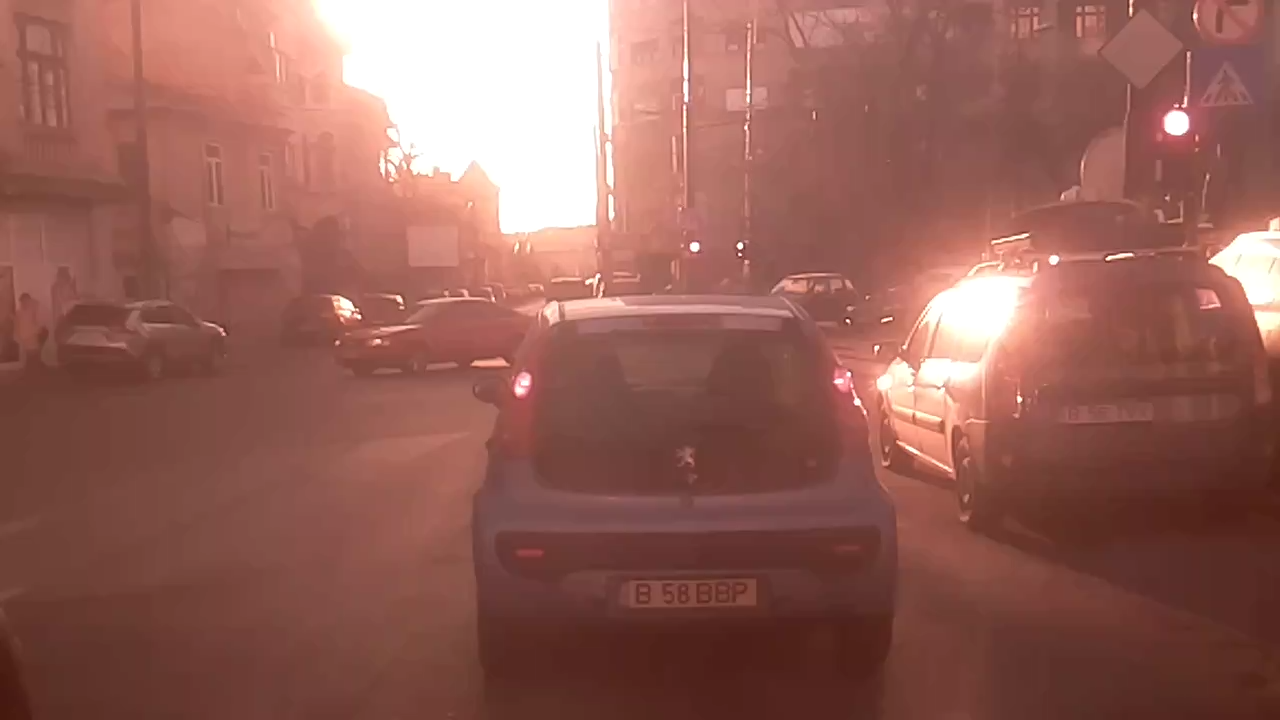license-plate: (614, 574, 762, 611)
